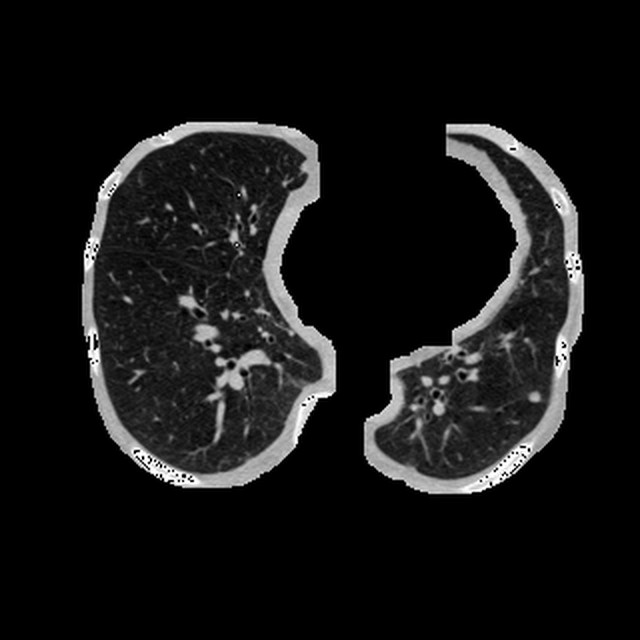PN: (528, 390, 540, 402)
